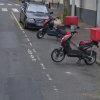Motorcycle: (34, 15, 100, 63)
